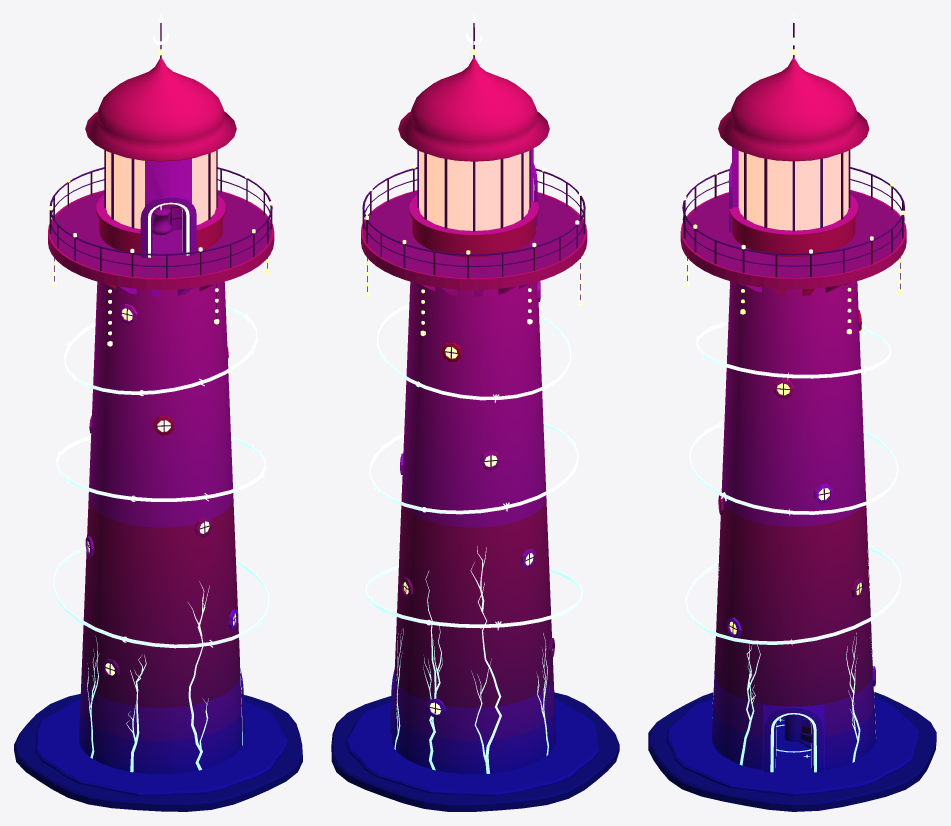
File: lighthouse.glb
3 views of the same model, side by side, from view 1: azimuth 30°, elevation 25°; view 2: azimuth 150°, elevation 25°; view 3: azimuth 270°, elevation 25° (orthographic).
Visible parts, largest first — view 1: DreamLighthouse, RuneRing_0, RuneRing_1, RuneRing_2; view 2: DreamLighthouse, RuneRing_1, RuneRing_0, RuneRing_2; view 3: DreamLighthouse, RuneRing_0, RuneRing_1, RuneRing_2.
Part boxes in pixels (x1,y1,x2,y2): DreamLighthouse: [14, 14, 302, 811]; RuneRing_0: [52, 547, 269, 648]; RuneRing_1: [56, 435, 265, 501]; RuneRing_2: [64, 306, 257, 396]; DreamLighthouse: [331, 14, 619, 811]; RuneRing_1: [369, 422, 578, 514]; RuneRing_0: [365, 566, 582, 630]; RuneRing_2: [376, 304, 571, 402]; DreamLighthouse: [648, 14, 936, 811]; RuneRing_0: [685, 545, 901, 645]; RuneRing_1: [689, 421, 898, 515]; RuneRing_2: [696, 321, 891, 379].
Size of the model in its own units: 11.23 by 31.62 by 11.24.
